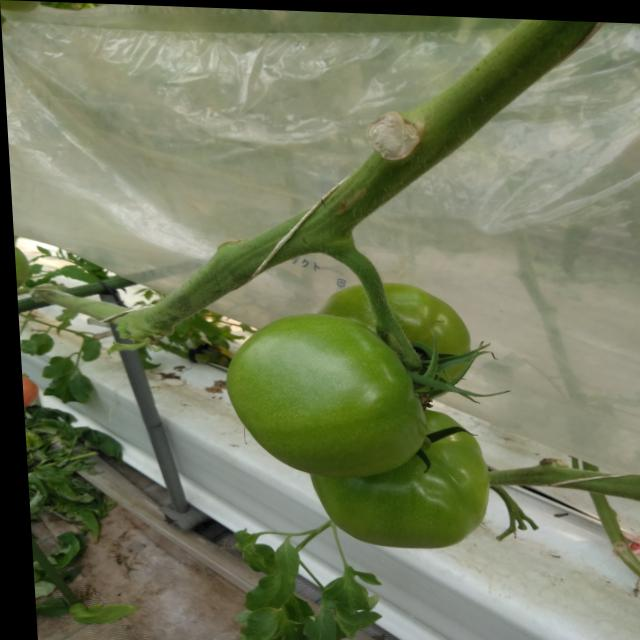yesil: (184, 214, 523, 579)
